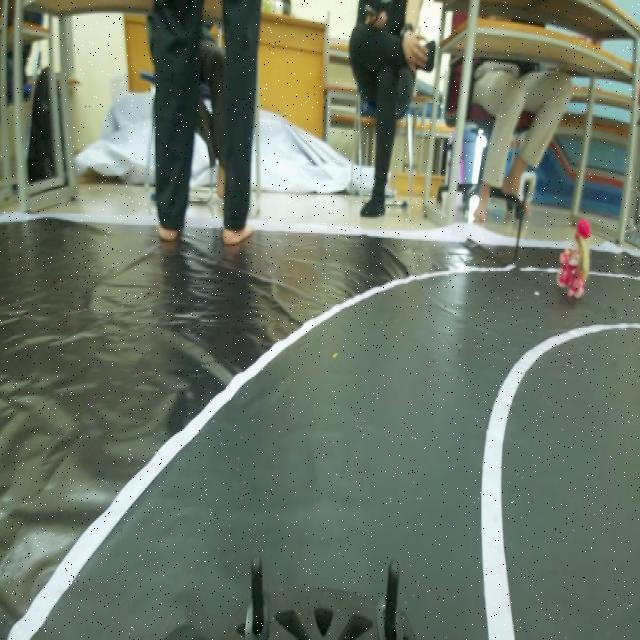pedestrian: (557, 212, 591, 314)
